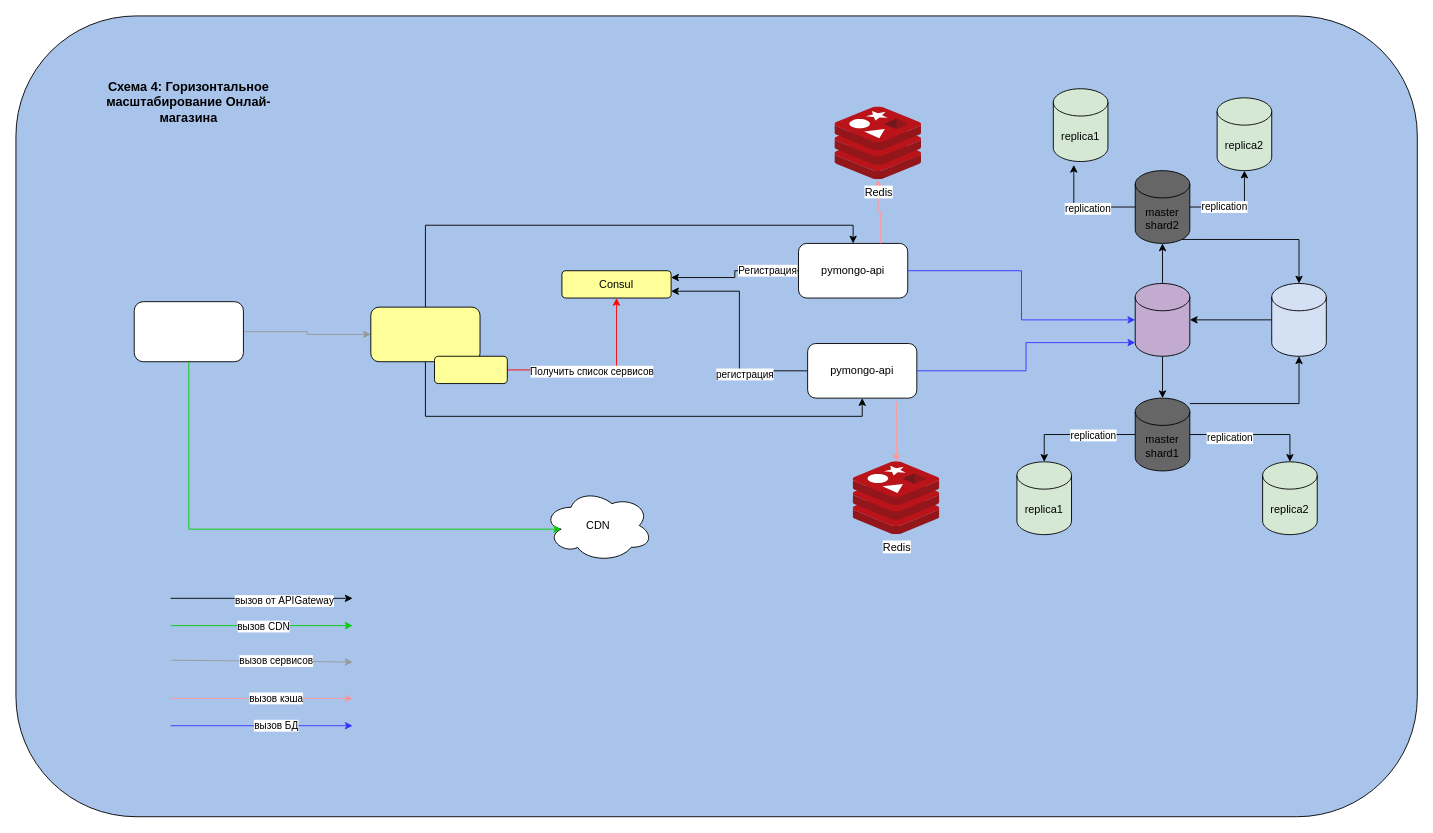
The diagram is 1433 pixels wide and 833 high, and some of its shapes have lost their labels. The shapes that lost their labels are listed below. From the top down, each one's box as (x1, y1, x2, y2) in pixels, then its label:
(133, 301, 243, 362): Онлайн магазин
(370, 306, 480, 362): APISIX gateway
(1134, 283, 1190, 356): mongos-router
(1271, 283, 1326, 356): configSrv
(434, 355, 507, 384): Consul-kv
